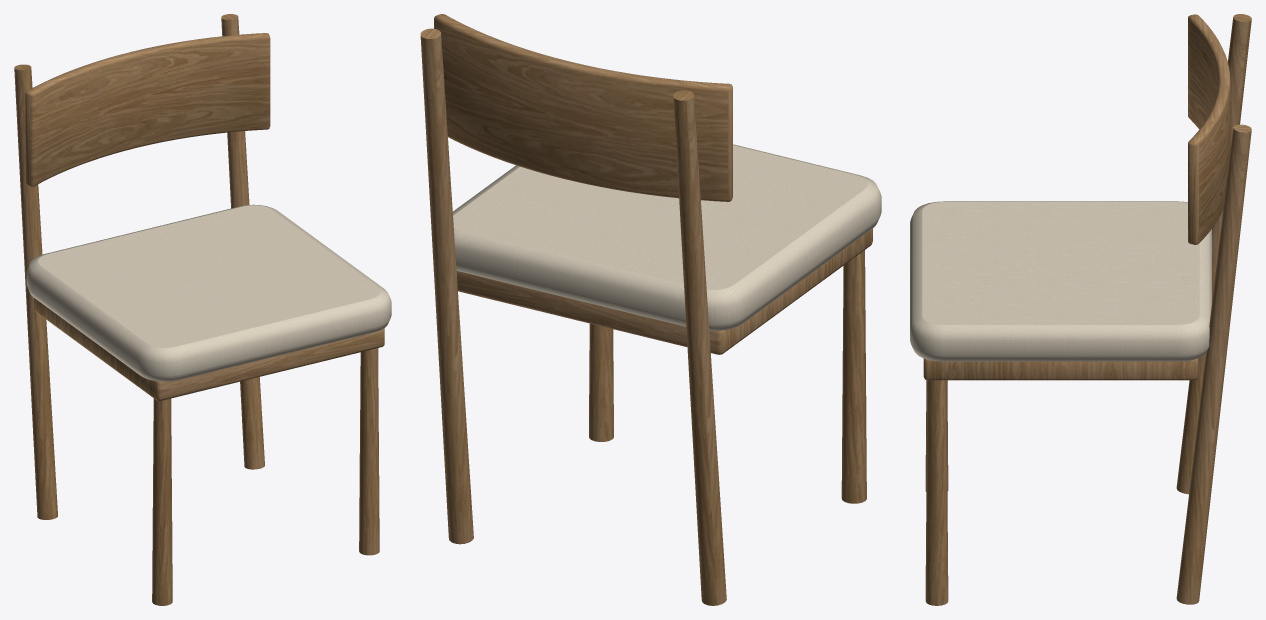
The model's file is dining_chair.glb.
The picture shows the model from 3 angles, left to right: view 1: azimuth 30°, elevation 25°; view 2: azimuth 150°, elevation 25°; view 3: azimuth 270°, elevation 25°; orthographic projection. The views are drawn at different scales.
Parts seen in each view (by area): view 1: dining_chair; view 2: dining_chair; view 3: dining_chair.
Boxes of the visible parts, x1=… form: dining_chair: x1=14, y1=14, x2=391, y2=605; dining_chair: x1=420, y1=14, x2=881, y2=605; dining_chair: x1=910, y1=14, x2=1251, y2=605.
Size of the model in its own units: 0.47 by 0.7793 by 0.5097.
2 materials, 2 textured.
